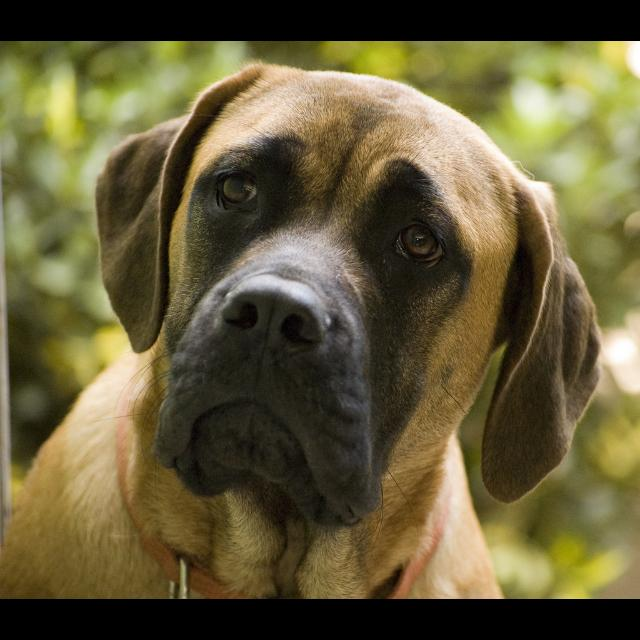mastiff: (3, 60, 604, 599)
